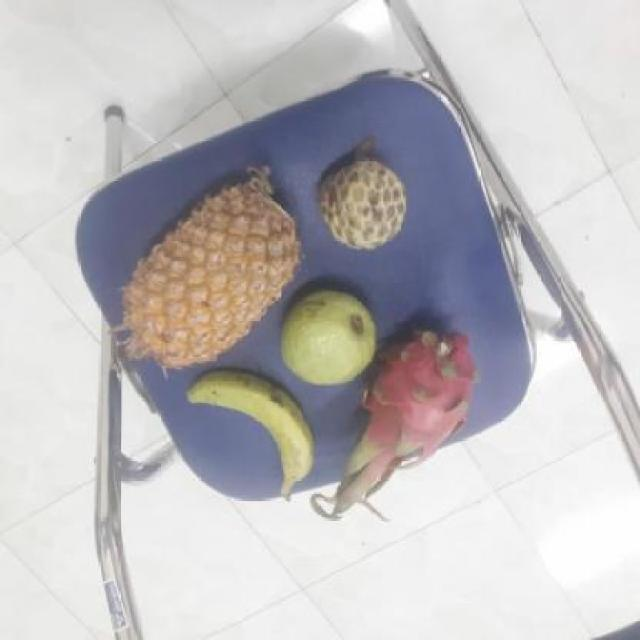banana: (182, 366, 312, 494)
dragon fruit: (334, 328, 474, 477)
guava: (277, 286, 377, 386)
pineapple: (117, 168, 298, 370)
sugar apple: (309, 156, 406, 250)
